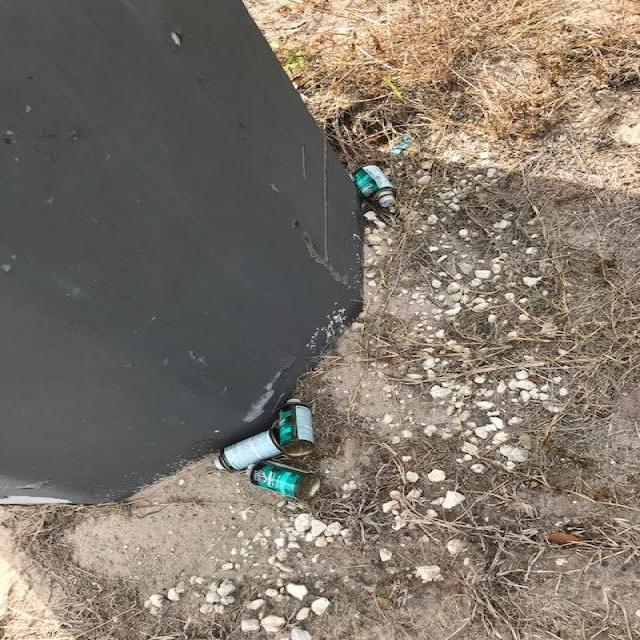litter: (247, 456, 324, 505), (208, 428, 285, 470), (276, 397, 313, 456), (351, 165, 397, 210)
